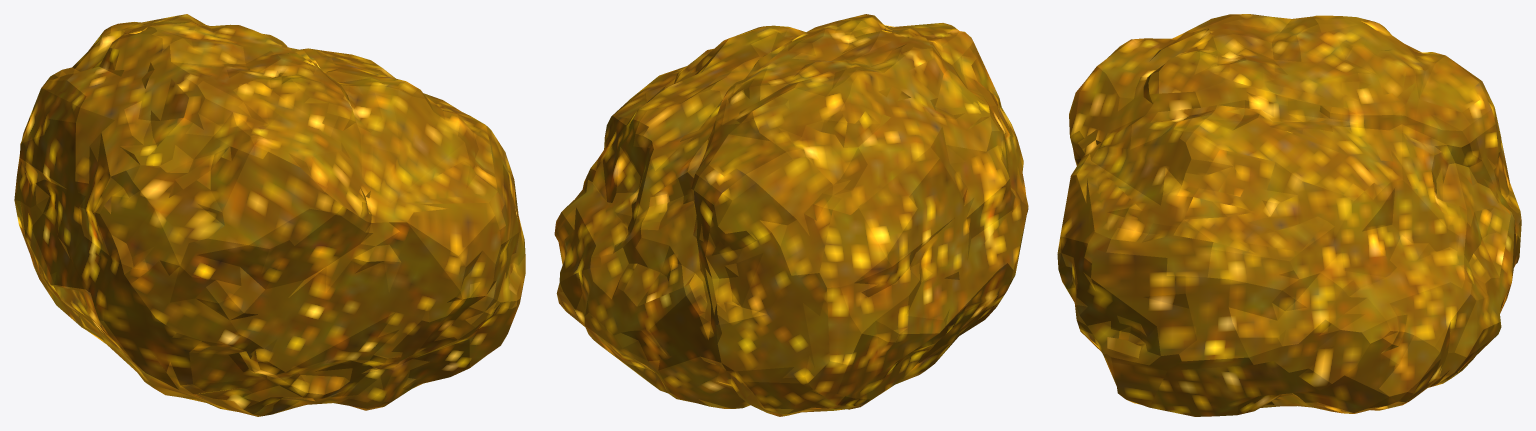
File: meteor_yellow_04.glb
3 renders of one model, left to right at view 1: azimuth 30°, elevation 25°; view 2: azimuth 150°, elevation 25°; view 3: azimuth 270°, elevation 25°, orthographic. The views are drawn at different scales.
Visible parts, largest first — view 1: Mesh1.0; view 2: Mesh1.0; view 3: Mesh1.0.
Part boxes in pixels (box(x1,y1,x2,y2)): Mesh1.0: box(14, 14, 525, 416); Mesh1.0: box(554, 14, 1028, 416); Mesh1.0: box(1057, 14, 1521, 416).
Size of the model in its own units: 1.87 by 1.46 by 1.9.
1 material, 1 textured.
